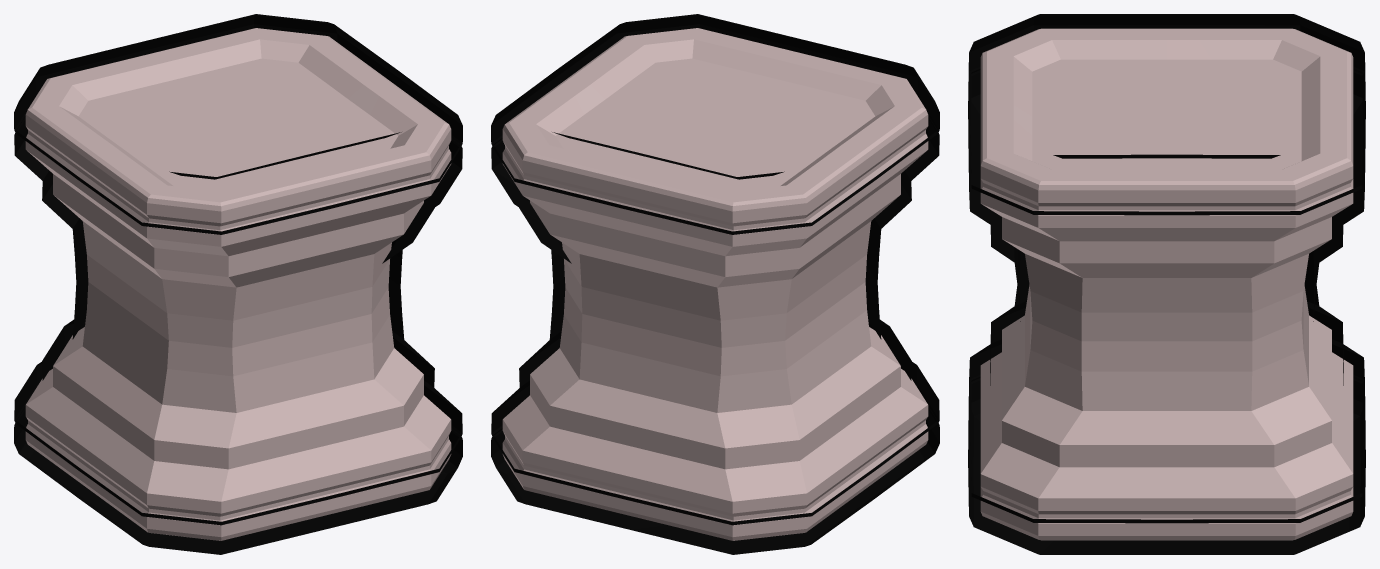
File: item_container.fbx
3 renders of one model, left to right at view 1: azimuth 30°, elevation 25°; view 2: azimuth 150°, elevation 25°; view 3: azimuth 270°, elevation 25°, orthographic. The views are drawn at different scales.
Parts seen in each view (by area): view 1: item_container, item_container_outline; view 2: item_container, item_container_outline; view 3: item_container, item_container_outline.
Part boxes in pixels (bbox=[...]): item_container: bbox=[25, 28, 451, 540]; item_container_outline: bbox=[14, 14, 462, 554]; item_container: bbox=[502, 28, 928, 540]; item_container_outline: bbox=[491, 14, 939, 554]; item_container: bbox=[980, 28, 1353, 540]; item_container_outline: bbox=[968, 14, 1365, 554].
Bounding box in the file's own units: 120 × 129 × 120.
